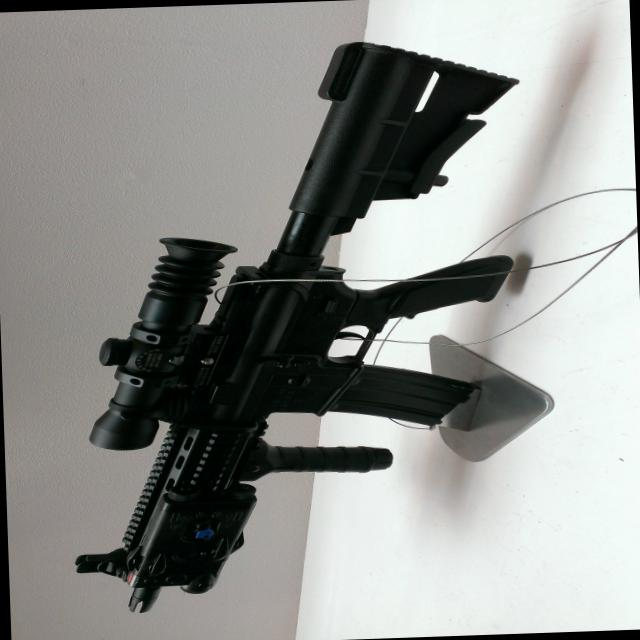long weapon: (48, 27, 546, 620)
